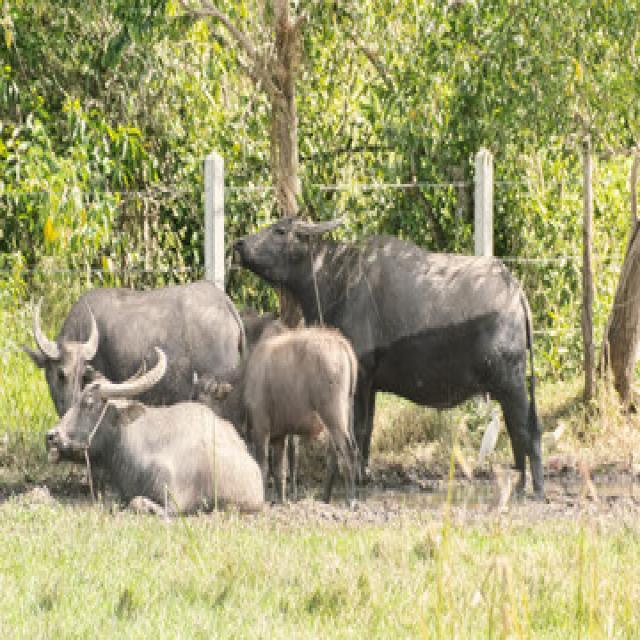Buffalo: (38, 354, 264, 511)
